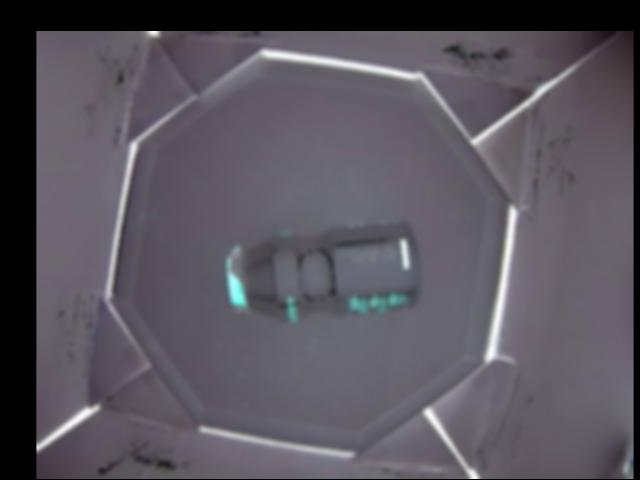Bottle: (224, 219, 423, 325)
